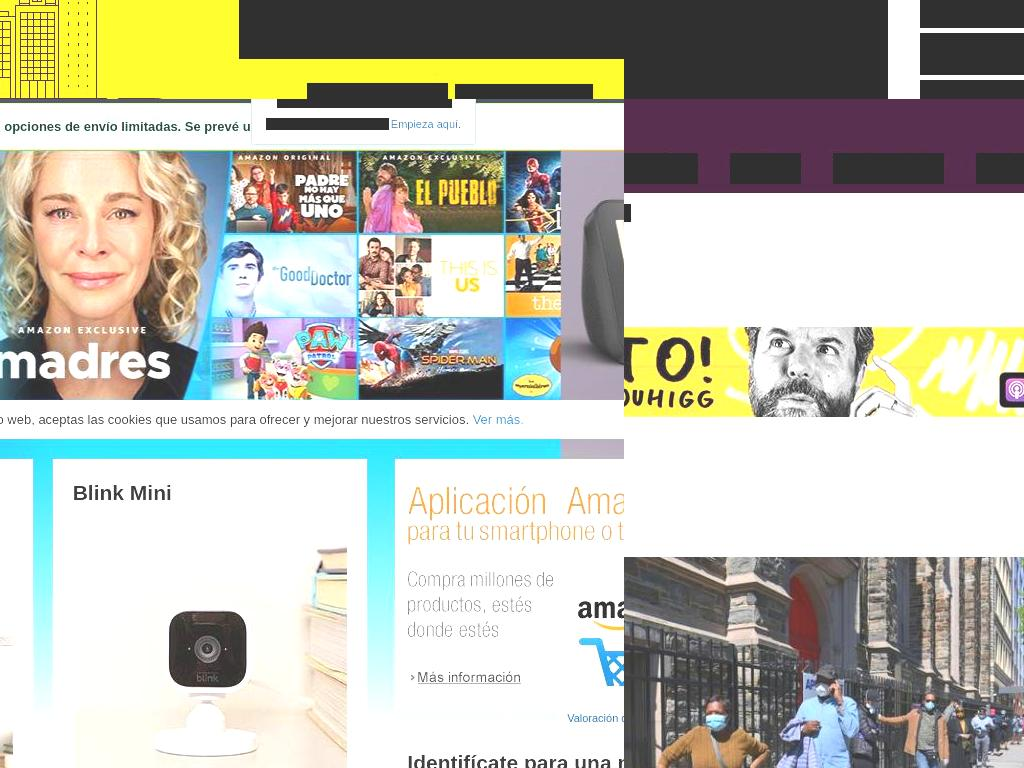button: (624, 557, 1024, 768), (72, 516, 348, 768), (624, 0, 888, 99), (920, 33, 1024, 75), (38, 158, 194, 184), (42, 114, 184, 140), (833, 153, 944, 184), (21, 202, 152, 228), (920, 0, 1024, 28), (186, 114, 290, 140), (110, 246, 208, 272), (19, 246, 108, 272), (624, 153, 698, 184), (307, 83, 448, 99), (730, 153, 801, 184), (196, 158, 278, 184), (455, 84, 593, 99), (277, 99, 452, 108), (154, 202, 213, 228), (976, 153, 1024, 184), (0, 114, 40, 140), (0, 158, 36, 184), (567, 712, 624, 726)
heading: (72, 479, 348, 506), (407, 749, 624, 768)
iframe: (394, 459, 624, 709), (624, 327, 1024, 418)
image: (624, 557, 1024, 768), (72, 516, 348, 768), (624, 0, 888, 99)
link: (390, 118, 461, 130), (472, 412, 524, 427)
text: (239, 0, 624, 59), (0, 412, 470, 427), (0, 119, 410, 134), (266, 118, 389, 130), (278, 99, 451, 106), (567, 712, 624, 724)
